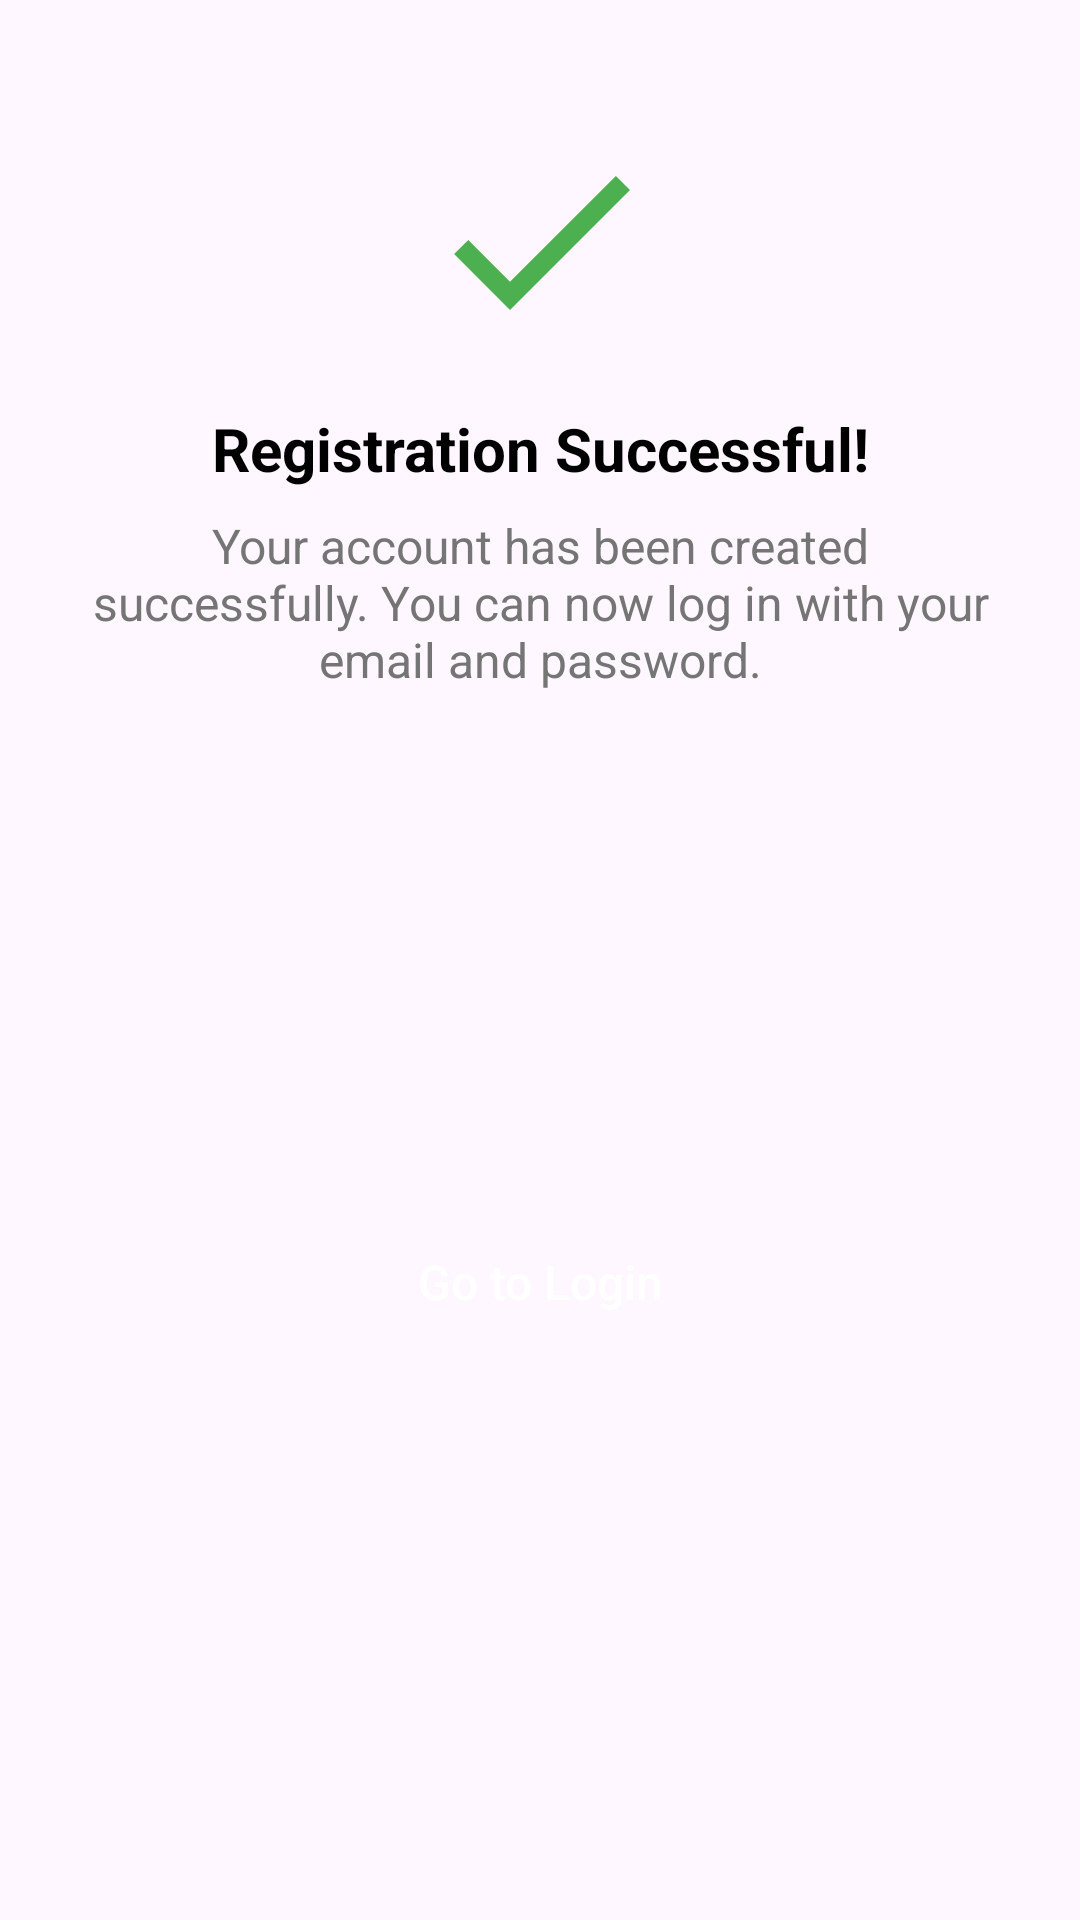

Icon click points for this 1080 × 1920 phone screenshot, format [x,y]:
Success icon: [542,243]
